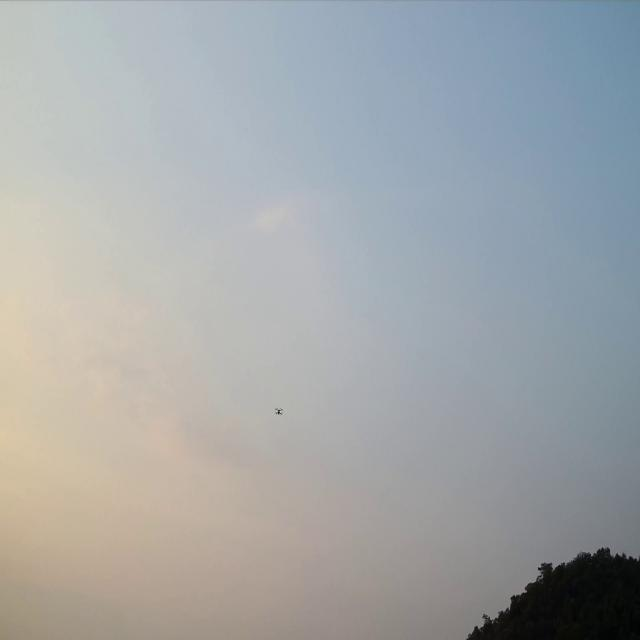UAV: (274, 407, 284, 416)
